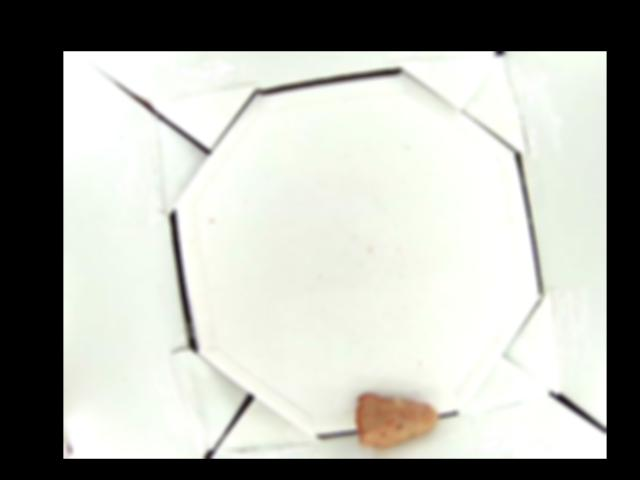Brisk: (355, 393, 437, 445)
